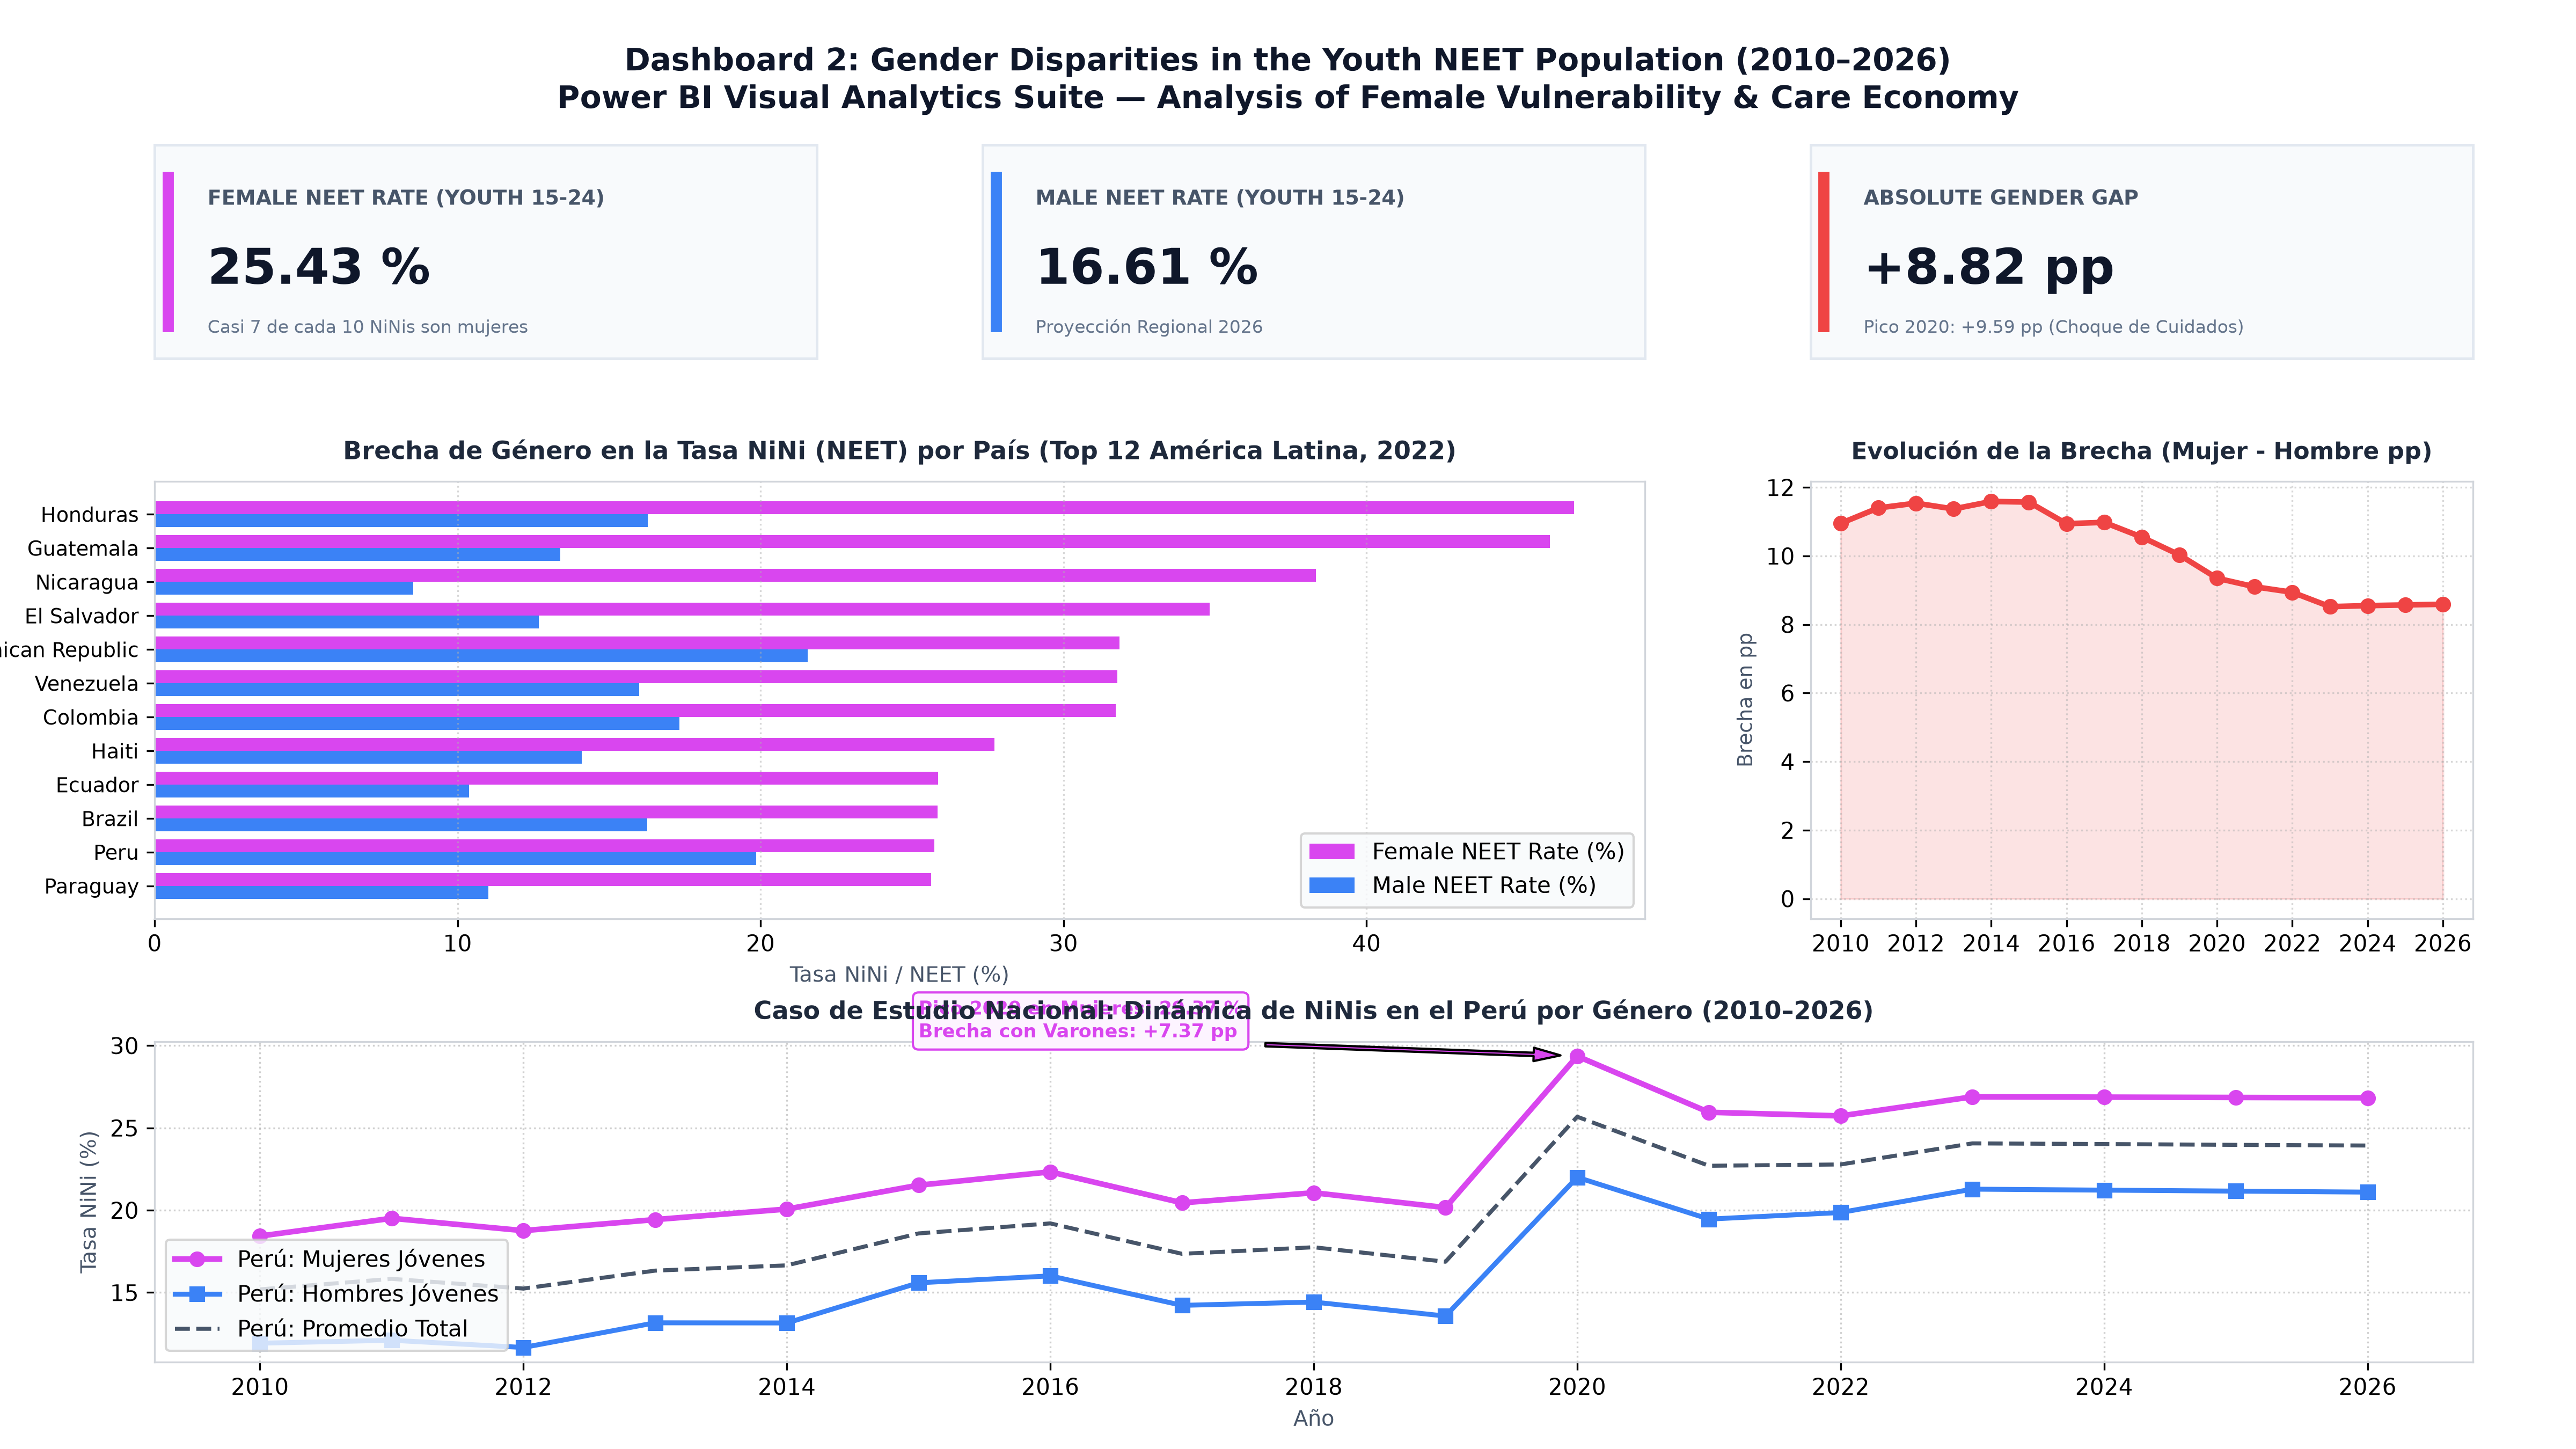

Layout of this report page (visuals, bound fields, positions):
{"tool":"powerbi","page":{"name":"02 Género NiNi","canvas":[1600,1000],"ordinal":1},"visuals":[{"type":"textbox","box":[32,38,1536,66],"z":5000},{"type":"textbox","box":[32,132,1536,29],"z":6000},{"type":"slicer","fields":{"Values":["Paises.País"]},"box":[32,174,512,80],"z":7000},{"type":"slicer","fields":{"Values":["Corte.Año"]},"box":[560,174,224,80],"z":8000},{"type":"slicer","fields":{"Values":["Foco.País"]},"box":[800,174,368,80],"z":9000},{"type":"textbox","box":[1192,48,376,55],"z":10000},{"type":"card","title":"NiNi mujeres (15–24 años)","fields":{"Values":["Observaciones.NiNi mujeres"]},"box":[31.4,265.7,368.6,145.7],"z":12000},{"type":"card","title":"NiNi hombres (15–24 años)","fields":{"Values":["Observaciones.NiNi hombres"]},"box":[431.1,265.6,368.6,145.7],"z":13000},{"type":"card","title":"Brecha mujeres menos hombres","fields":{"Values":["Observaciones.Brecha NiNi"]},"box":[815.6,265.6,368.6,145.7],"z":14000},{"type":"card","title":"Ámbito de las tarjetas","fields":{"Values":["Observaciones.Contexto"]},"box":[1200,266,368,146],"z":15000},{"type":"clusteredBarChart","title":"NiNi por país y sexo","fields":{"Category":["Paises.País"],"Y":["Observaciones.NiNi mujeres","Observaciones.NiNi hombres"]},"box":[32,422,768,546],"z":16000},{"type":"lineChart","title":"Brecha NiNi","fields":{"Category":["Anios.Año"],"Y":["Observaciones.Brecha de género por año"]},"box":[816,422,752,274],"z":17000},{"type":"lineChart","title":"País focal","fields":{"Category":["Anios.Año"],"Y":["Observaciones.Foco Mujeres","Observaciones.Foco Hombres"]},"box":[816,712,752,256],"z":18000}]}

Visuals, with their boxes on the page's 1600x1000 design canvas (x1, y1, x2, y2). These are canvas units, not pixel positions in the 2576x1449 screenshot, which may show the page scaled, cropped or inside an application window:
textbox: left=32, top=38, right=1568, bottom=104
textbox: left=32, top=132, right=1568, bottom=161
slicer - Paises.País: left=32, top=174, right=544, bottom=254
slicer - Corte.Año: left=560, top=174, right=784, bottom=254
slicer - Foco.País: left=800, top=174, right=1168, bottom=254
textbox: left=1192, top=48, right=1568, bottom=103
"NiNi mujeres (15–24 años)" card: left=31, top=266, right=400, bottom=411
"NiNi hombres (15–24 años)" card: left=431, top=266, right=800, bottom=411
"Brecha mujeres menos hombres" card: left=816, top=266, right=1184, bottom=411
"Ámbito de las tarjetas" card: left=1200, top=266, right=1568, bottom=412
"NiNi por país y sexo" clusteredBarChart: left=32, top=422, right=800, bottom=968
"Brecha NiNi" lineChart: left=816, top=422, right=1568, bottom=696
"País focal" lineChart: left=816, top=712, right=1568, bottom=968
